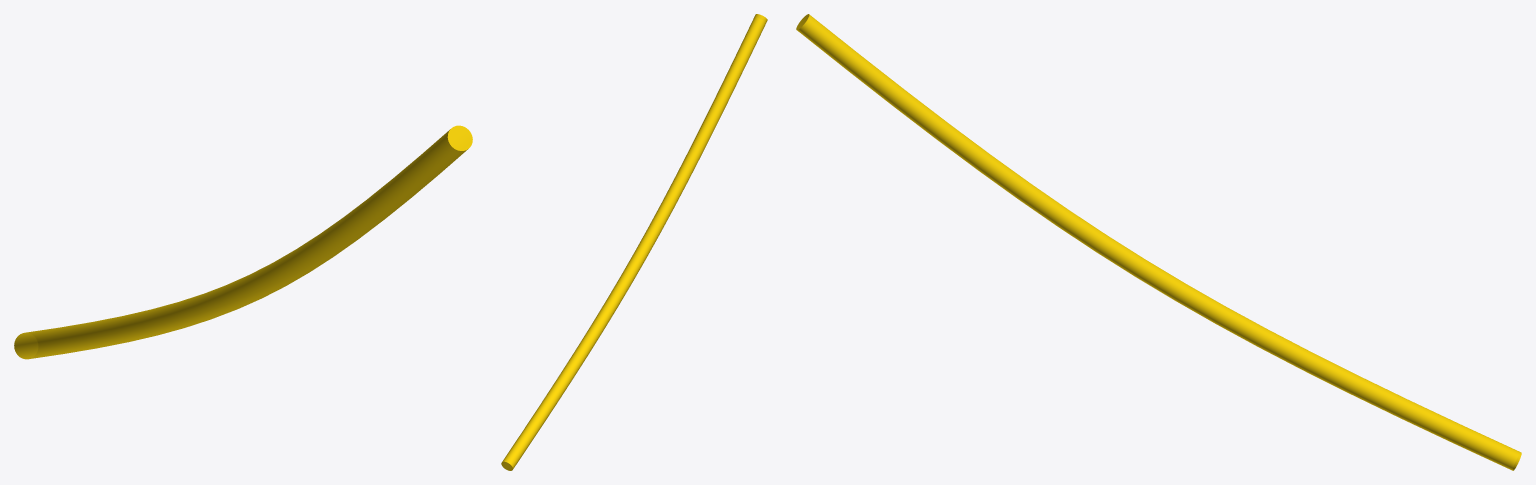
The model's file is Event_420107950_track_6.fbx.
The picture shows the model from 3 angles, left to right: view 1: azimuth 30°, elevation 25°; view 2: azimuth 150°, elevation 25°; view 3: azimuth 270°, elevation 25°; orthographic projection. The views are drawn at different scales.
Visible parts, largest first — view 1: Model; view 2: Model; view 3: Model.
Part boxes in pixels (x1=…): Model: x1=14, y1=125, x2=472, y2=359; Model: x1=501, y1=14, x2=767, y2=470; Model: x1=796, y1=14, x2=1521, y2=470.
Bounding box in the file's own units: 0.1043 × 0.9572 × 1.43.
